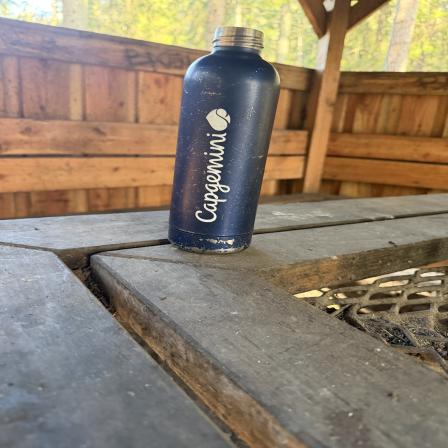blue_bottle: (172, 24, 282, 254)
